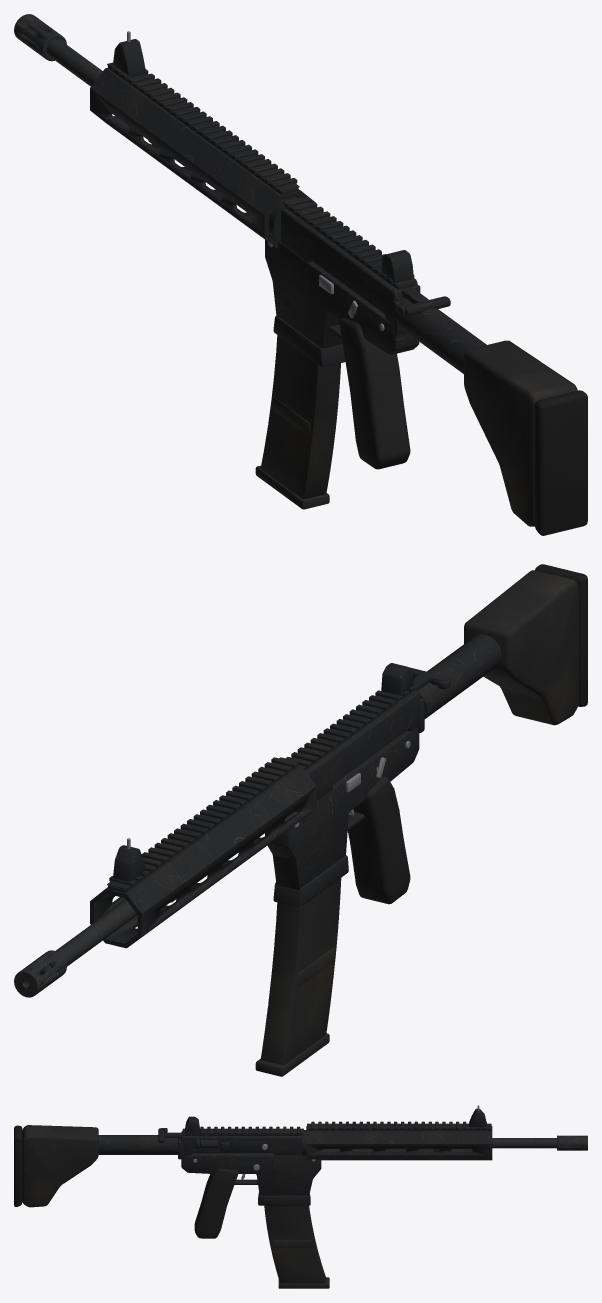
The picture shows the model from 3 angles, top to bottom: view 1: azimuth 30°, elevation 25°; view 2: azimuth 150°, elevation 25°; view 3: azimuth 270°, elevation 25°; orthographic projection. The views are drawn at different scales.
Parts seen in each view (by area): view 1: M4_Body, M4_Magazine, M4_ChargingHandle; view 2: M4_Body, M4_Magazine; view 3: M4_Body, M4_Magazine, M4_DustCover.
Boxes of the visible parts, bbox=[...] form: M4_Body: bbox=[14, 14, 587, 535]; M4_Magazine: bbox=[255, 335, 340, 509]; M4_ChargingHandle: bbox=[397, 287, 450, 315]; M4_Body: bbox=[14, 564, 587, 997]; M4_Magazine: bbox=[255, 878, 341, 1076]; M4_Body: bbox=[14, 1105, 587, 1238]; M4_Magazine: bbox=[264, 1205, 329, 1288]; M4_DustCover: bbox=[225, 1141, 266, 1151].
Bounding box in the file's own units: 0.0462 × 0.288 × 0.833.
Materials: 8 (7 with a texture image).
